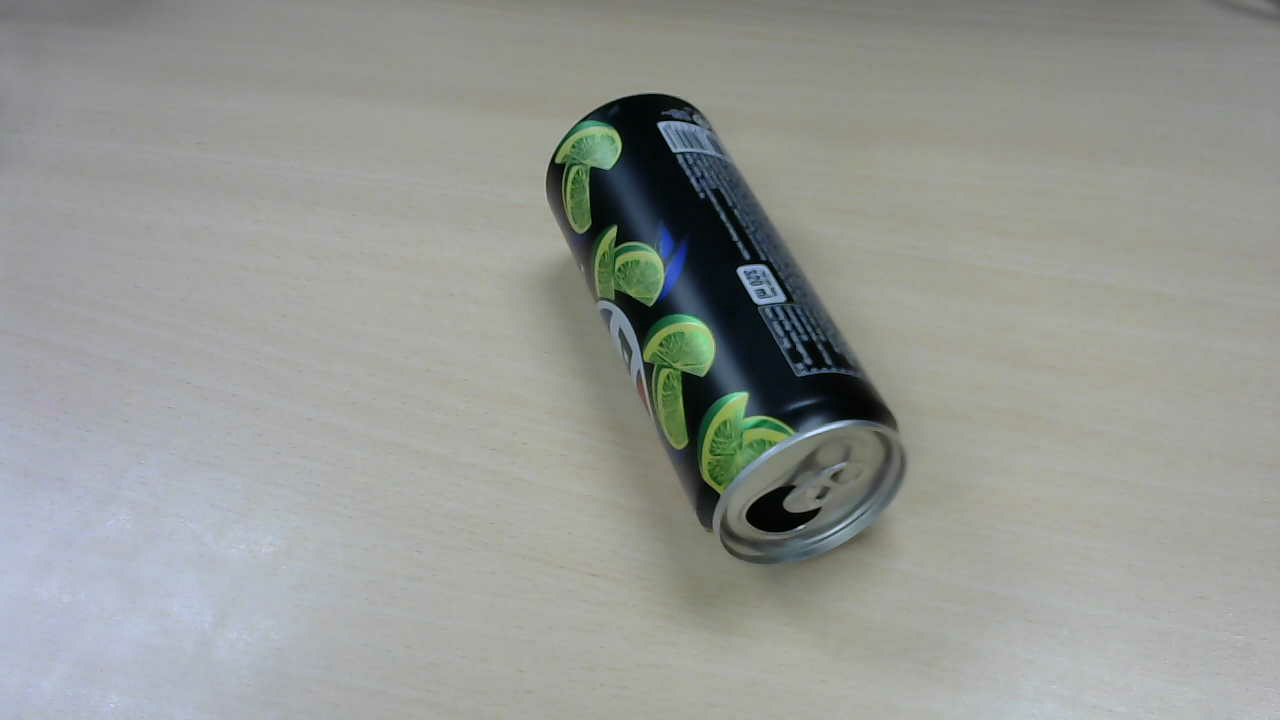Pepsi: (549, 98, 911, 568)
